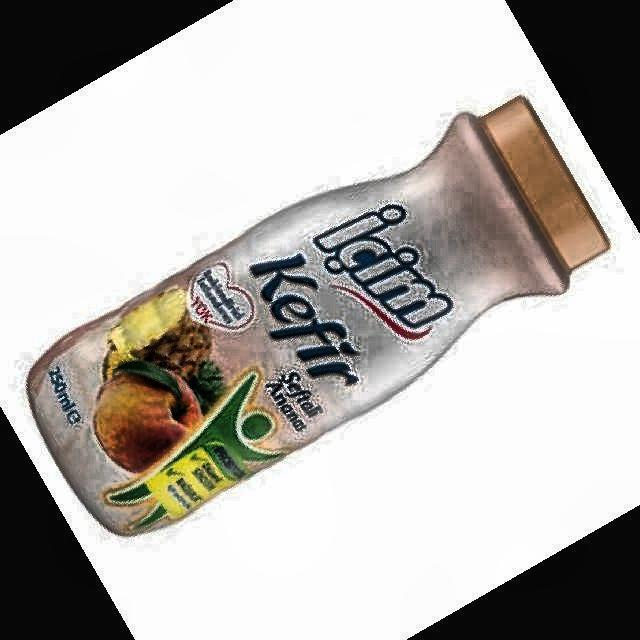plastic: (28, 98, 608, 535)
